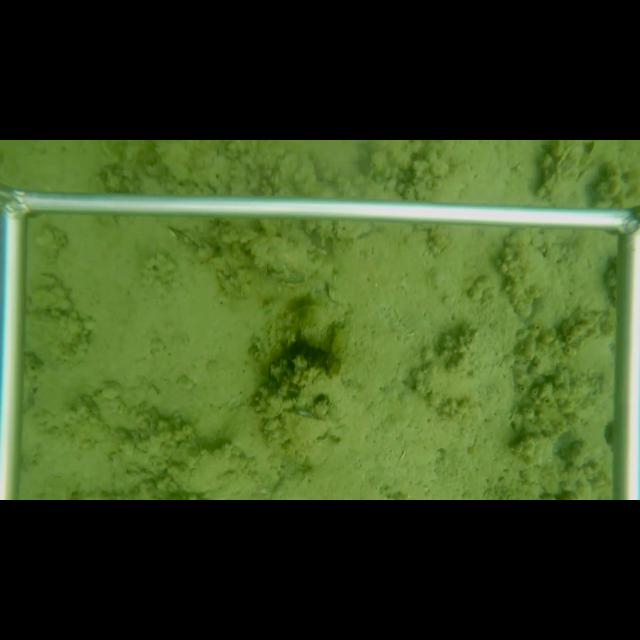Oyster-Closed: (278, 410, 332, 450), (163, 224, 203, 249)
